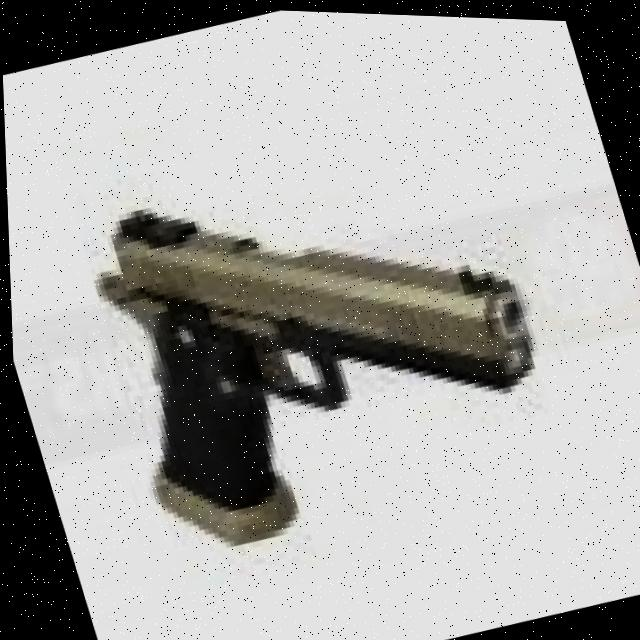pistol: (68, 108, 579, 578)
